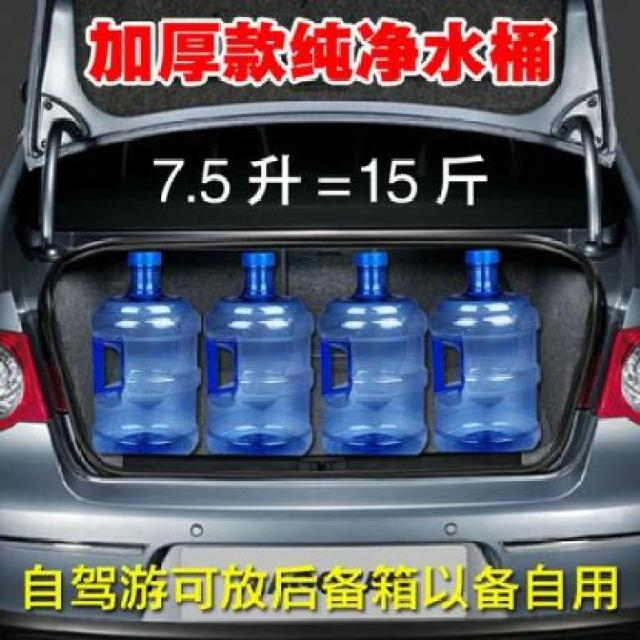coolerbottle: (424, 242, 546, 459), (198, 246, 320, 461), (88, 244, 204, 458), (315, 244, 431, 458)
